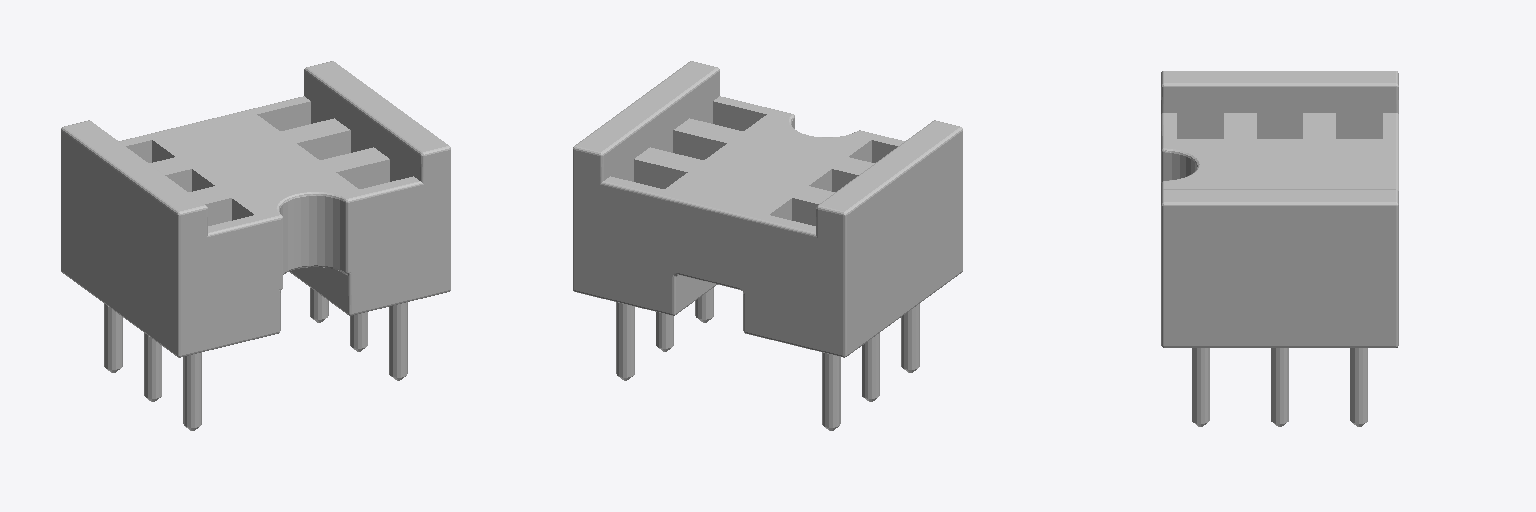
The model's file is IC_Sockel_6P.obj.
3 renders of one model, left to right at view 1: azimuth 30°, elevation 25°; view 2: azimuth 150°, elevation 25°; view 3: azimuth 270°, elevation 25°, orthographic.
Parts seen in each view (by area): view 1: Volumenkörper1; view 2: Volumenkörper1; view 3: Volumenkörper1.
Part boxes in pixels (x1,y1,x2,y2): Volumenkörper1: (61, 61, 450, 430); Volumenkörper1: (573, 61, 962, 430); Volumenkörper1: (1161, 71, 1398, 426).
Size of the model in its own units: 10.16 by 8.46 by 7.62.